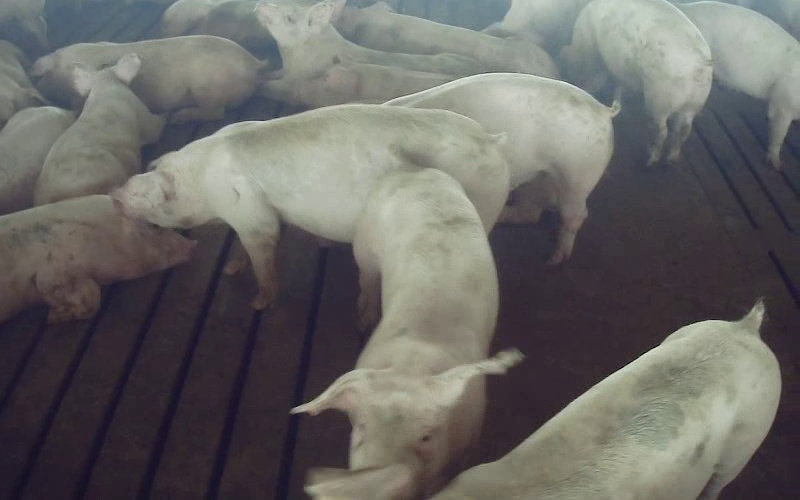pig: (294, 169, 520, 490), (435, 302, 778, 499), (0, 195, 195, 322), (562, 0, 712, 164), (256, 2, 484, 102), (31, 35, 264, 122), (34, 54, 163, 204), (336, 7, 558, 77)
